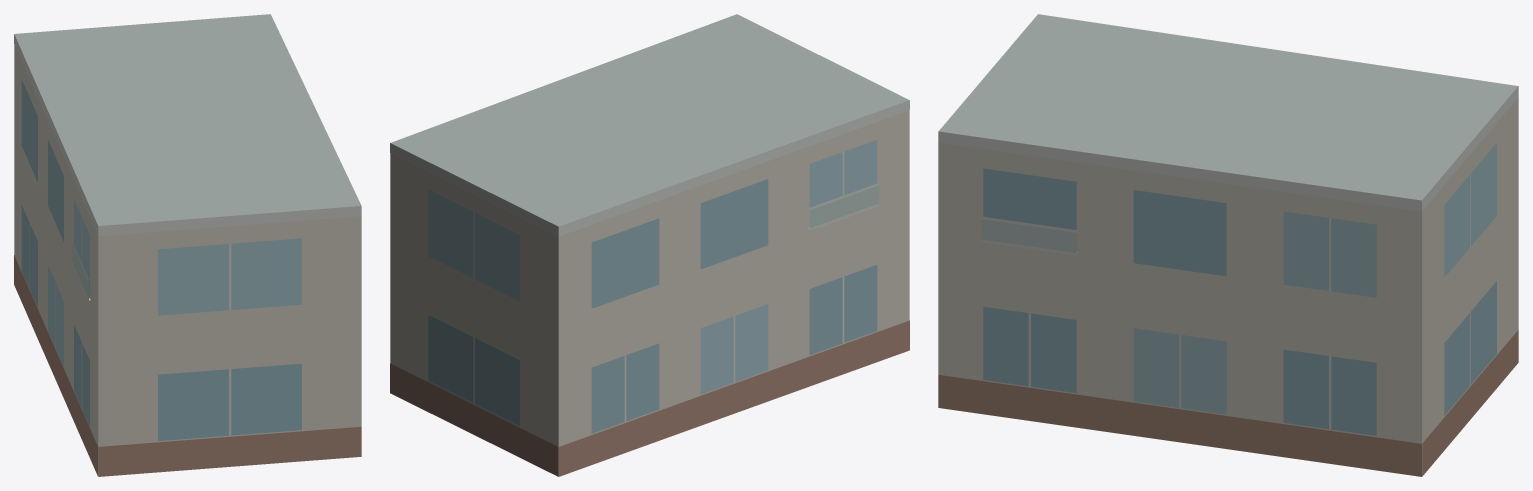
The model's file is survey-upis-32665993.glb.
The picture shows the model from 3 angles, left to right: view 1: azimuth 30°, elevation 25°; view 2: azimuth 150°, elevation 25°; view 3: azimuth 270°, elevation 25°; orthographic projection. The views are drawn at different scales.
Visible parts, largest first — view 1: survey-upis-32665993.tmp; view 2: survey-upis-32665993.tmp; view 3: survey-upis-32665993.tmp.
Part boxes in pixels (<box>): survey-upis-32665993.tmp: <box>14,14,361,476</box>; survey-upis-32665993.tmp: <box>390,14,909,476</box>; survey-upis-32665993.tmp: <box>938,14,1518,476</box>.
Size of the model in its own units: 8.83 by 6.1 by 11.61.
